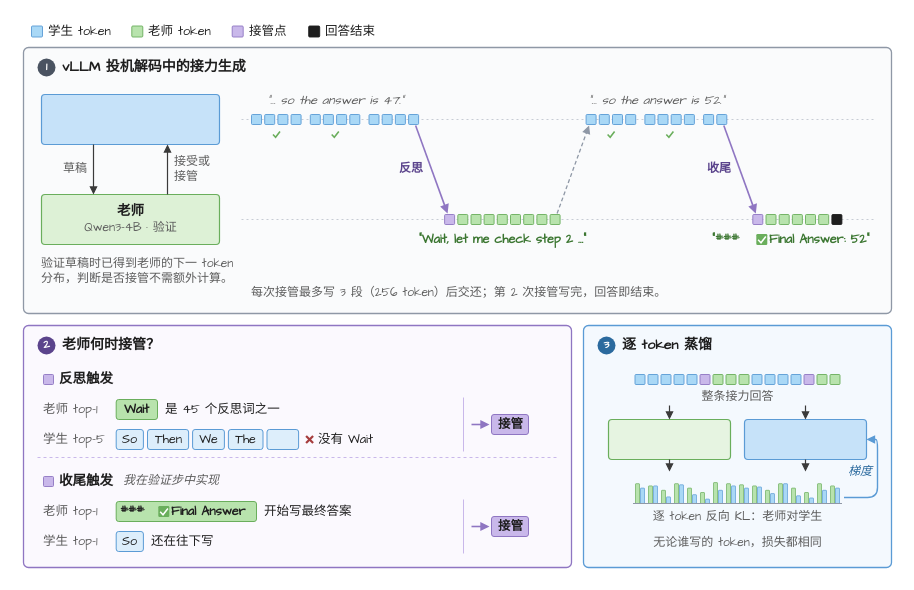
Image size: 914x590. Some labels were removed from this diagram. Here are the shapes that lost their labels. From the top down, the centre of each, then its label:
At [130,119]: "学生 Qwen3-1.7B · 写草稿".
At [282,439]: "Let".
At [669,439]: "老师打分器 单独一张卡".
At [805,439]: "学生 正在训练".
